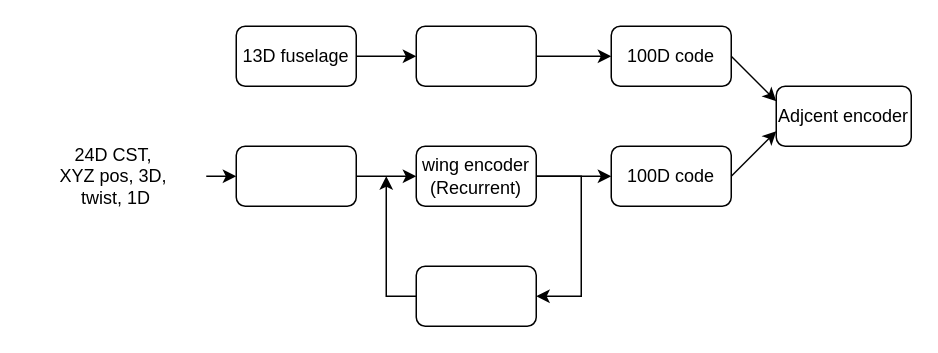
This 938x353 diagram has some shape labels left out. Each missing label, with the centre of its shape:
28D section: point (295, 175)
34D section: point (475, 295)
OBB Encoder: point (475, 55)
